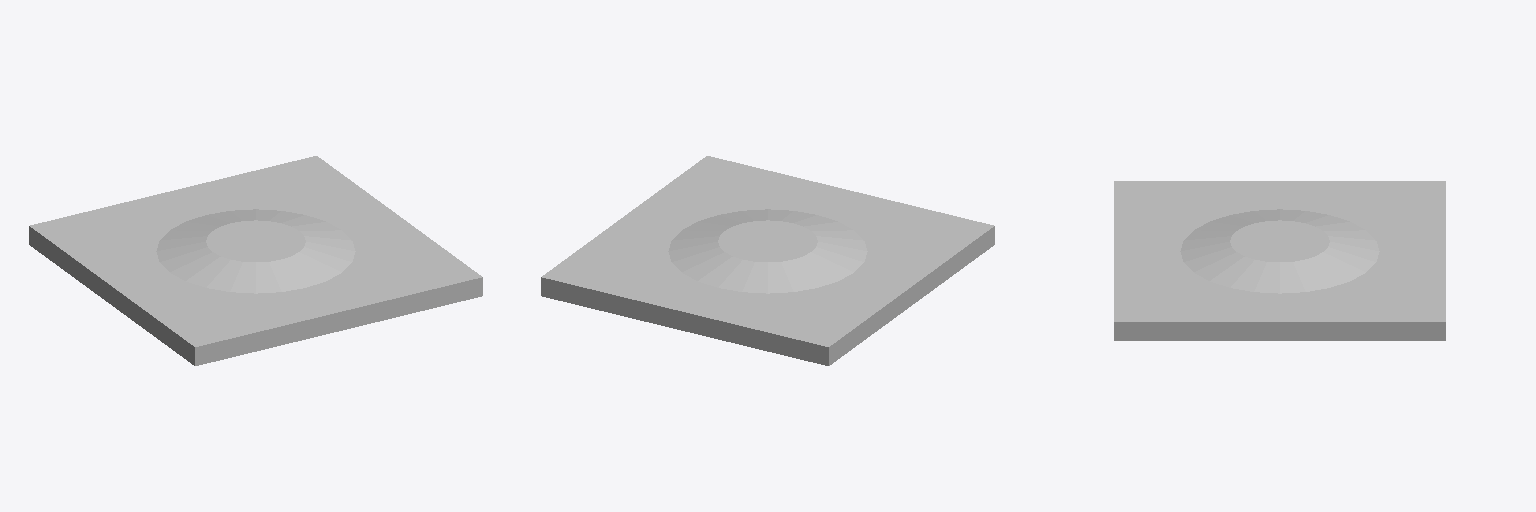
Rendered from Bump_01.obj.
3 views of the same model, side by side, from view 1: azimuth 30°, elevation 25°; view 2: azimuth 150°, elevation 25°; view 3: azimuth 270°, elevation 25° (orthographic).
Visible parts, largest first — view 1: Mesh1 Bump Model; view 2: Mesh1 Bump Model; view 3: Mesh1 Bump Model.
Boxes of the visible parts, box(x1,y1,x2,y2) form: Mesh1 Bump Model: box(29, 156, 482, 365); Mesh1 Bump Model: box(541, 156, 994, 365); Mesh1 Bump Model: box(1114, 181, 1445, 340).
Size of the model in its own units: 3 by 0.29 by 3.